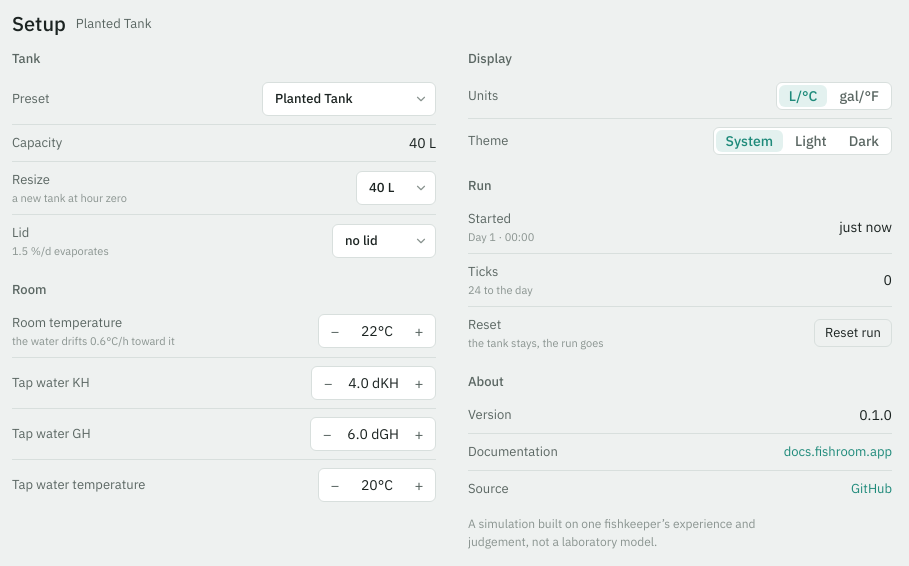
Test: SetupSection › offers the round sizes to resize to, and stands on the one the tank is
Expected: the dropdown named "Tank size" shows "40 L", [356,171,436,205]
Click the button "gal/°F": point(859, 96) [830,85,889,107]
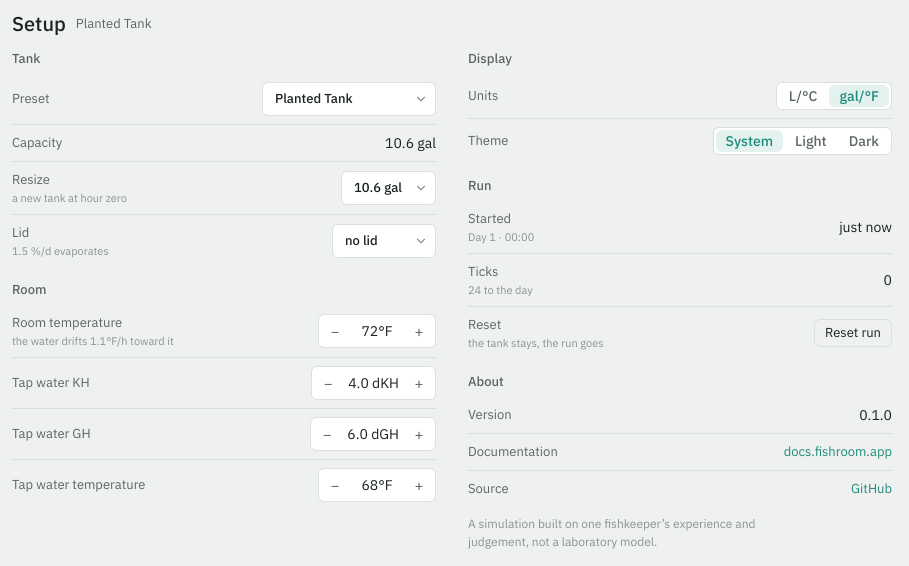
Now the dropdown named "Tank size" shows "10.6 gal", box [341,171,436,205]
